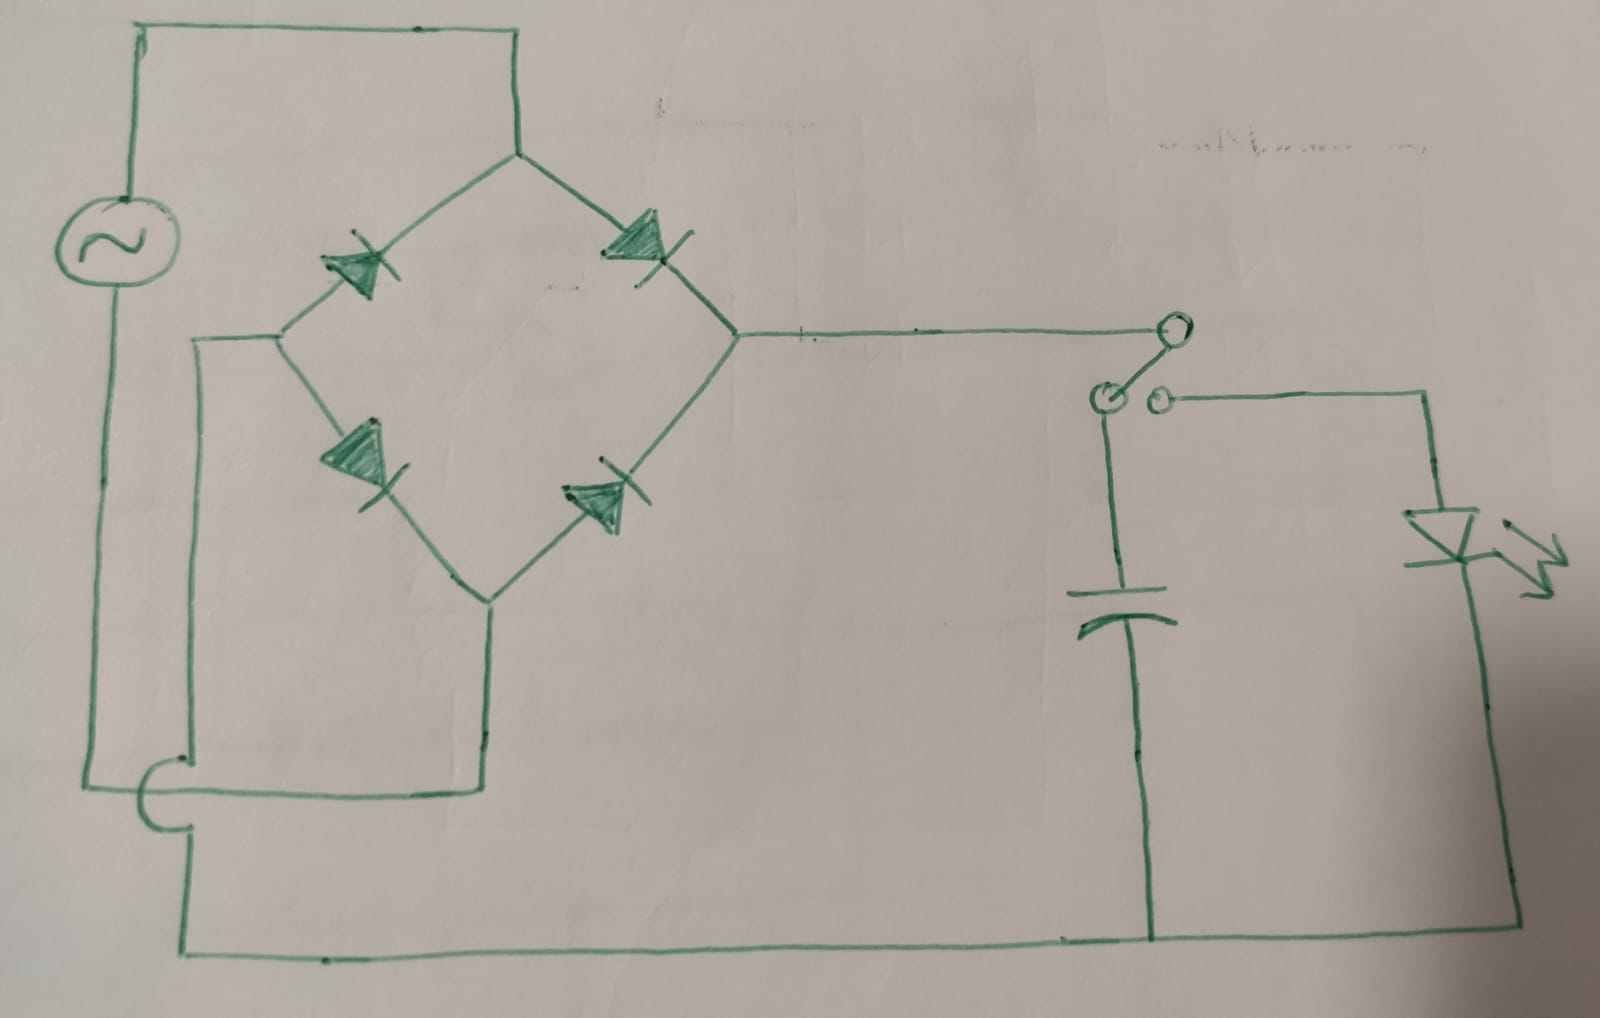capacitor.unpolarized: (1064, 580, 1183, 647)
crossover: (129, 746, 210, 843)
diode: (316, 414, 410, 513), (598, 205, 697, 290), (562, 456, 654, 536), (316, 226, 402, 304)
diode.light_emitting: (1399, 500, 1569, 601)
junction: (465, 775, 501, 808), (720, 321, 753, 351), (501, 143, 535, 174), (72, 768, 103, 802), (1408, 380, 1439, 412), (1135, 924, 1169, 952), (167, 936, 196, 968), (1506, 910, 1536, 939), (499, 17, 531, 45), (264, 323, 290, 354), (127, 14, 154, 45), (183, 327, 209, 359), (475, 590, 501, 616)
switch: (1086, 313, 1194, 421)
voltage.dc_ac: (52, 191, 185, 293)
